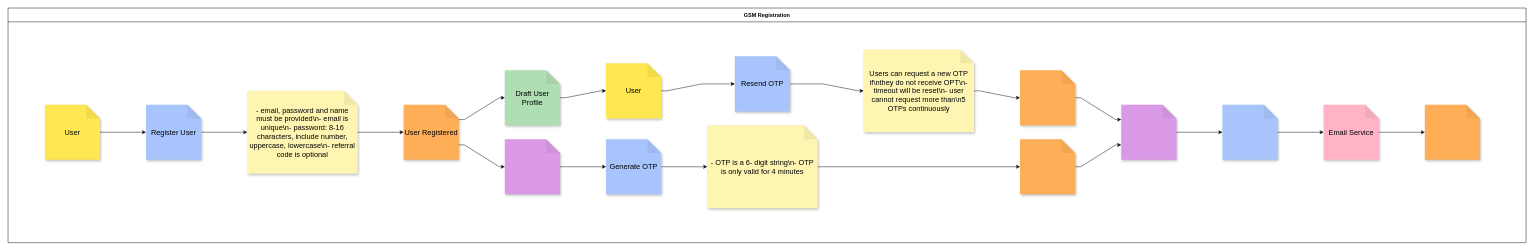
Some shapes in this 1534 by 251 pixel diagram are drawn without their labels. Here are the shapes that lost their labels. From the top down, the centre of each, then its label:
At point 1048,98: "Resend OTP Generated".
At point 1149,133: "Send OTP Process".
At point 1250,133: "Send OTP".
At point 1453,133: "Register OTP Sent".
At point 533,167: "Generate OTP Process".
At point 1048,167: "Register OTP Generated".
